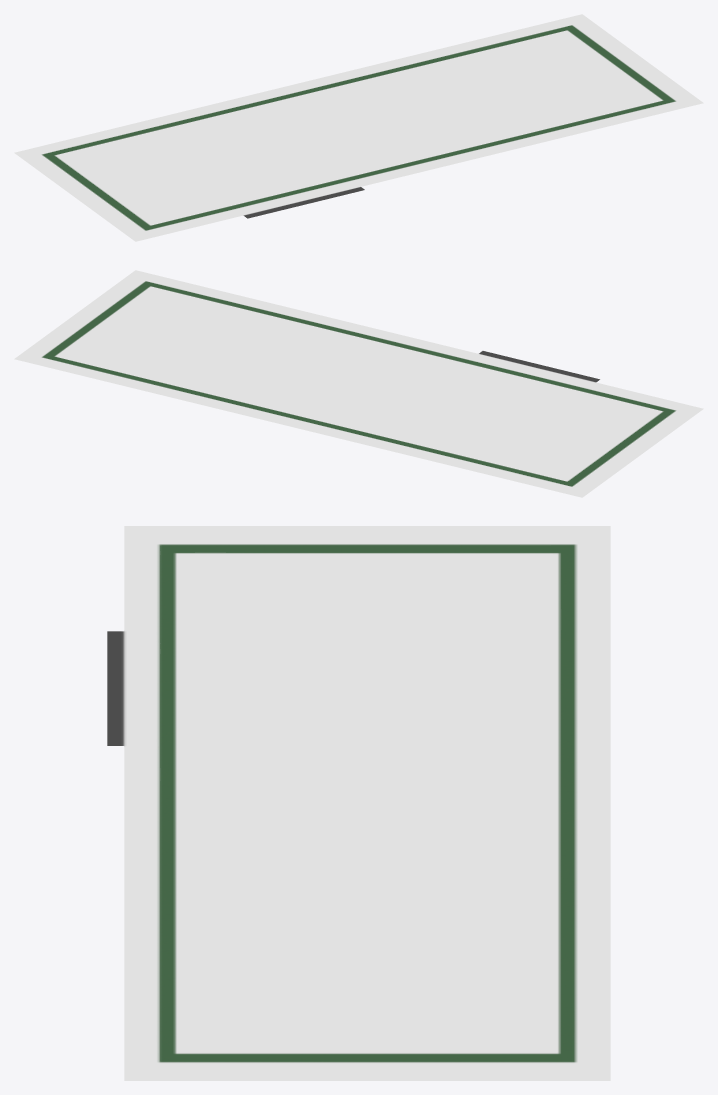
The model's file is Sciences_Floor.fbx.
3 views of the same model, one above another, from view 1: azimuth 30°, elevation 25°; view 2: azimuth 150°, elevation 25°; view 3: azimuth 270°, elevation 25° (orthographic). The views are drawn at different scales.
Visible parts, largest first — view 1: Sciences_Floor; view 2: Sciences_Floor; view 3: Sciences_Floor.
Boxes of the visible parts, left/top/right/bottom form: Sciences_Floor: left=14, top=14, right=703, bottom=241; Sciences_Floor: left=14, top=270, right=703, bottom=497; Sciences_Floor: left=107, top=526, right=610, bottom=1080.
Size of the model in its own units: 3865 by 0 by 1483.
